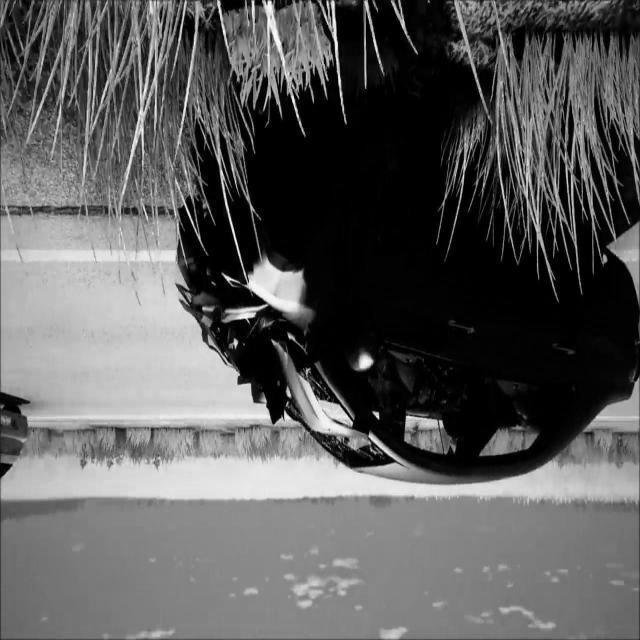severe: (172, 144, 640, 491)
